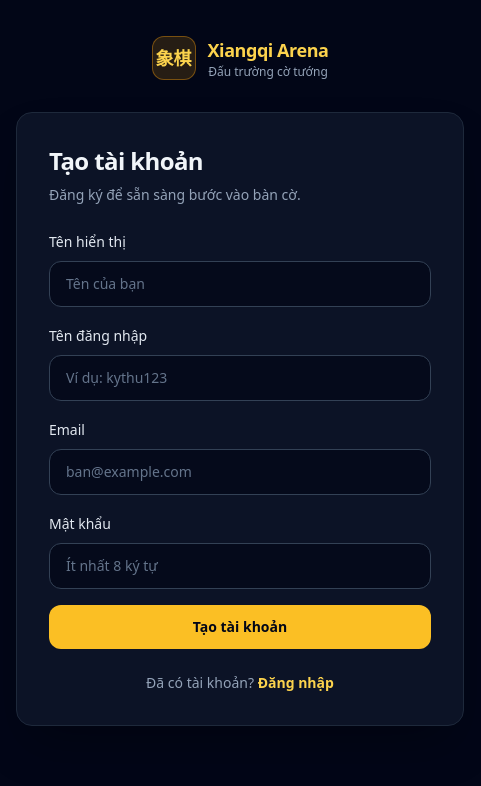
Scenario: AuthForm › shows the API 409 duplicate username/email error
Type "New Player" into the field labelled "Tên hiển thị" at x=240, y=284, box [49, 261, 431, 307]
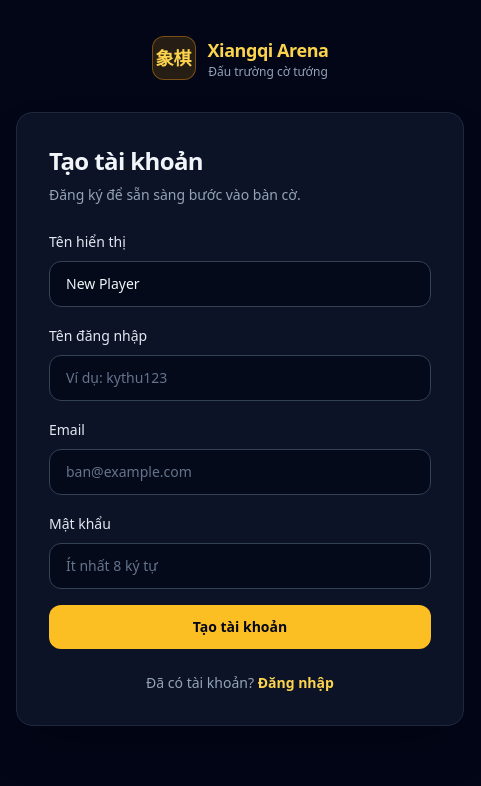
Type "new_player" into the field labelled "Tên đăng nhập" at x=240, y=378, box [49, 355, 431, 401]
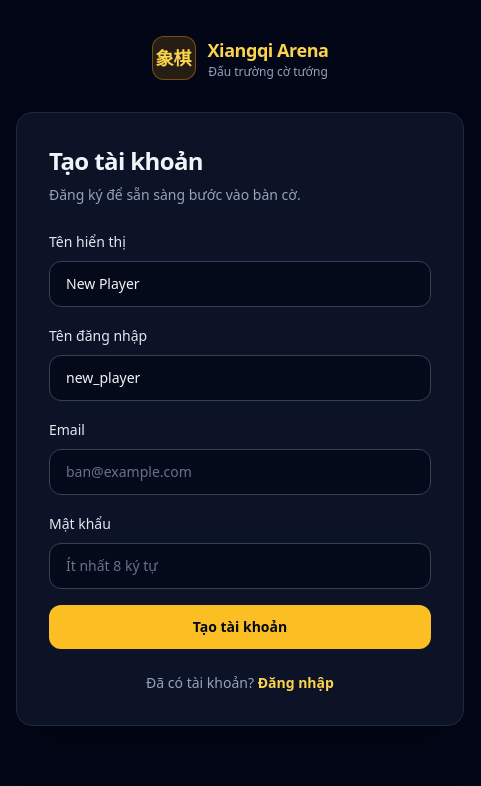
Type "new@example.com" into the field labelled "Email" at x=240, y=472, box [49, 449, 431, 495]
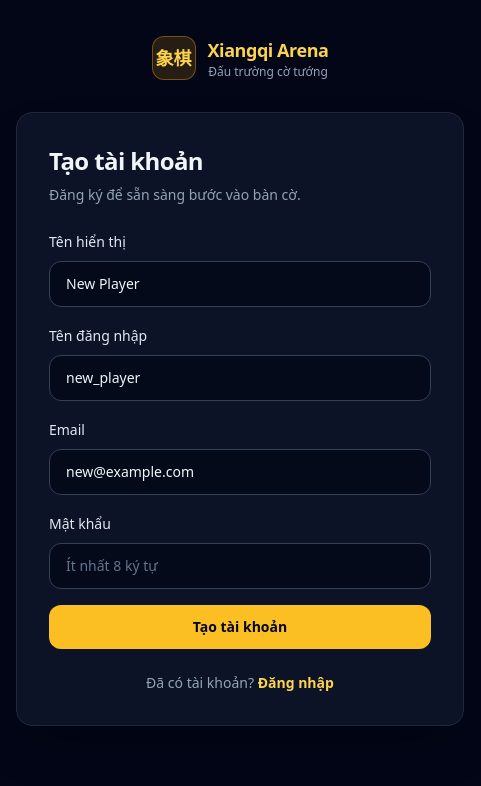
Type "password123" into the password field labelled "Mật khẩu" at x=240, y=566, box [49, 543, 431, 589]
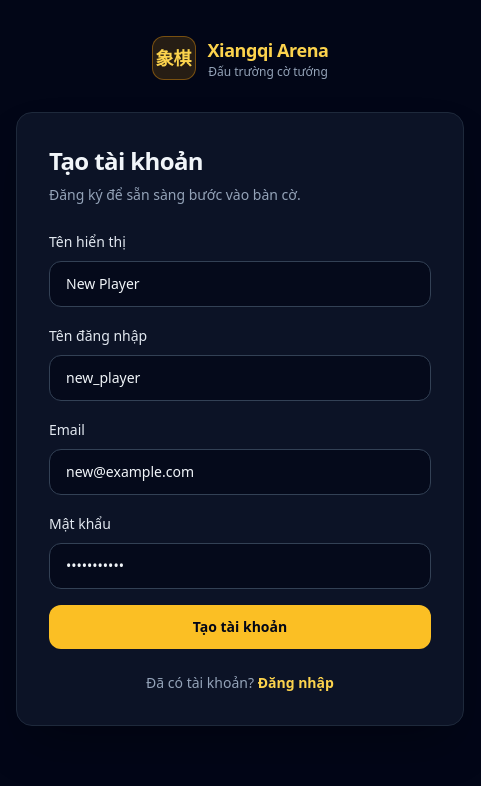
Click the button "Tạo tài khoản" at x=240, y=627, box [49, 605, 431, 649]
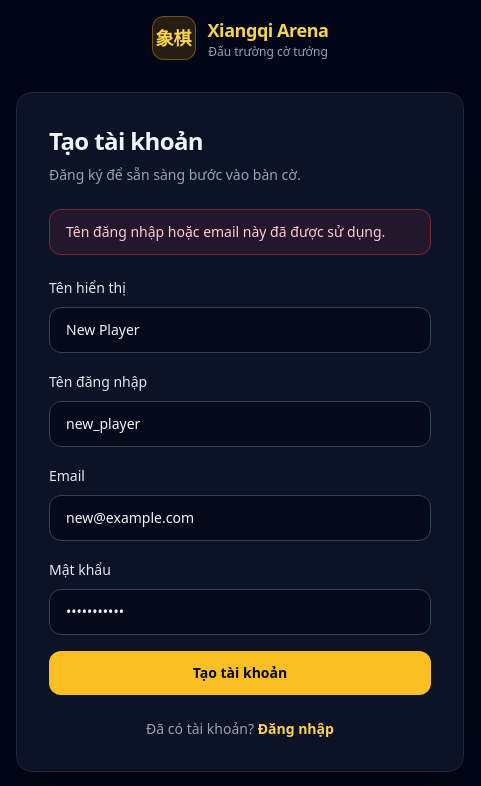
Expected: the message reads "Tên đăng nhập hoặc email này đã được sử dụng.", [66, 222, 385, 241]
